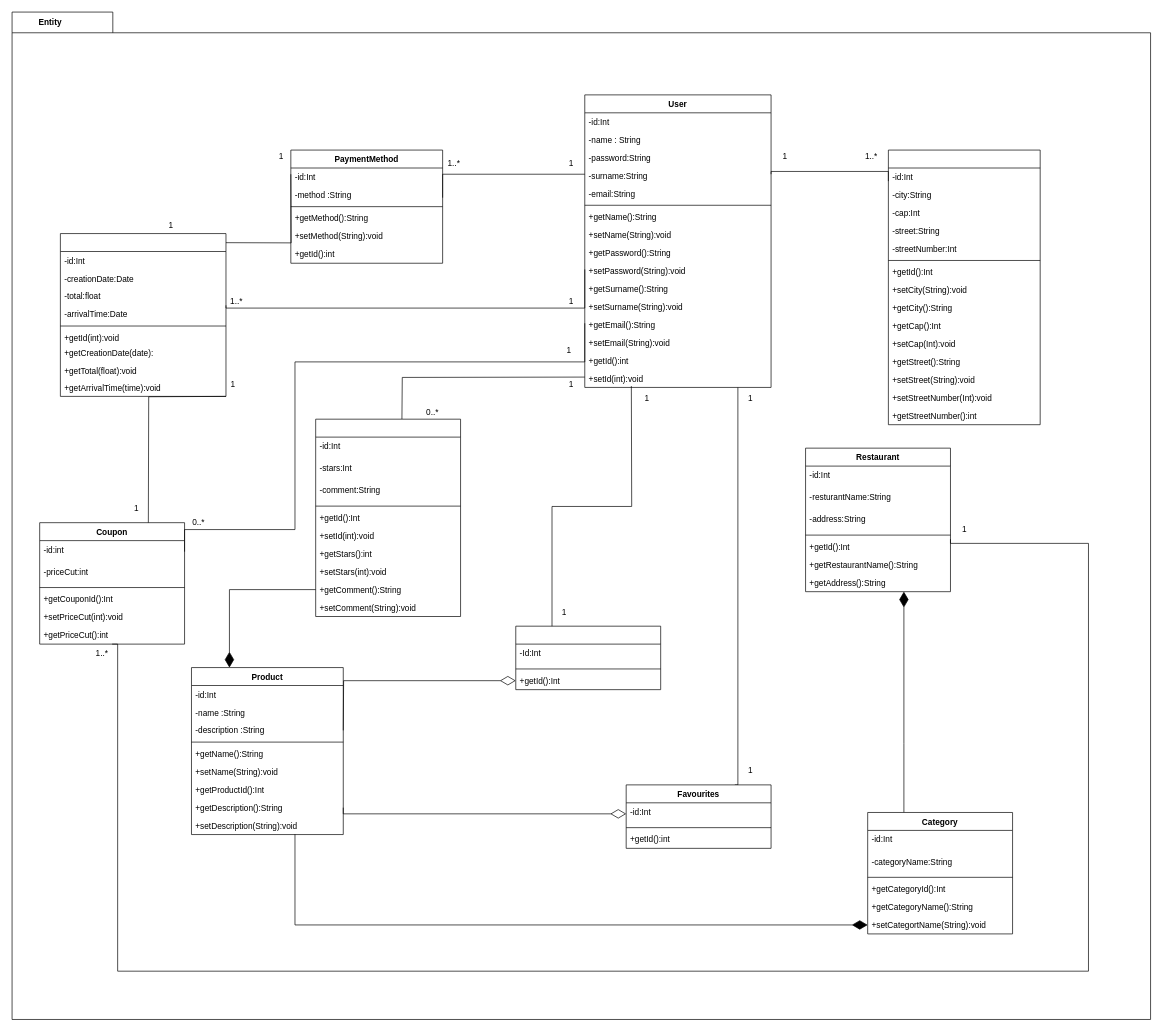
Some shapes in this 1163 by 1032 pixel diagram are drawn without their labels. Each missing label, with the box of its shape:
Cart: (515, 625, 661, 690)
Order: (60, 233, 226, 396)
Review: (315, 418, 461, 617)
ShippingAddress: (888, 149, 1040, 425)
